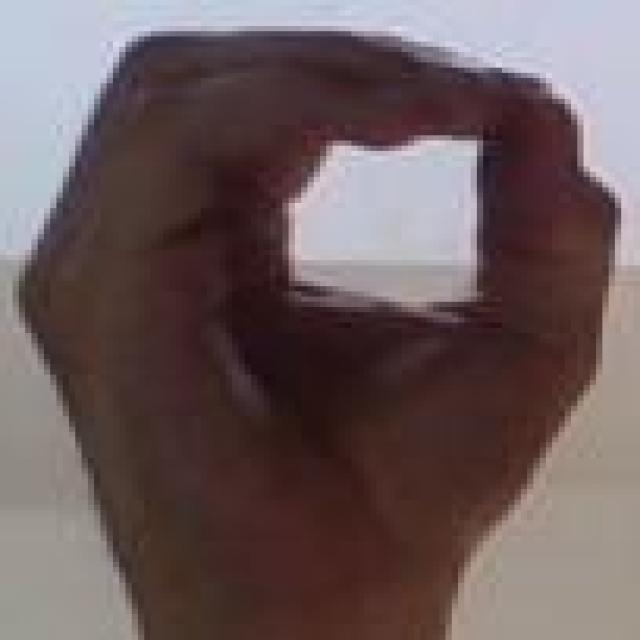O: (17, 11, 638, 556)
